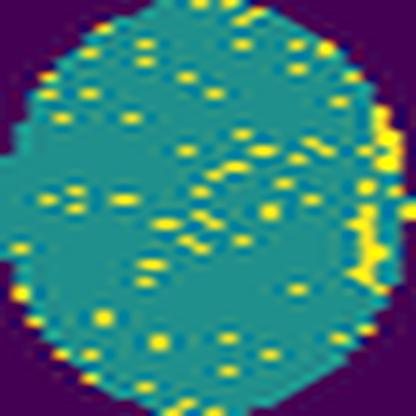Scratch: (337, 197, 396, 300)
